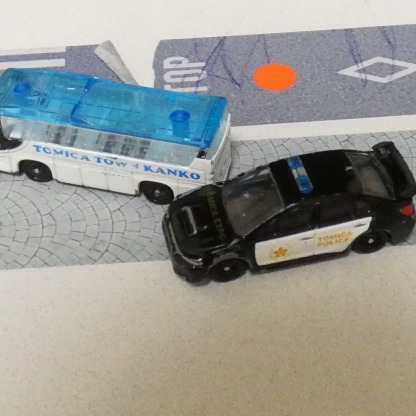car: (165, 143, 413, 285), (0, 67, 231, 206)
